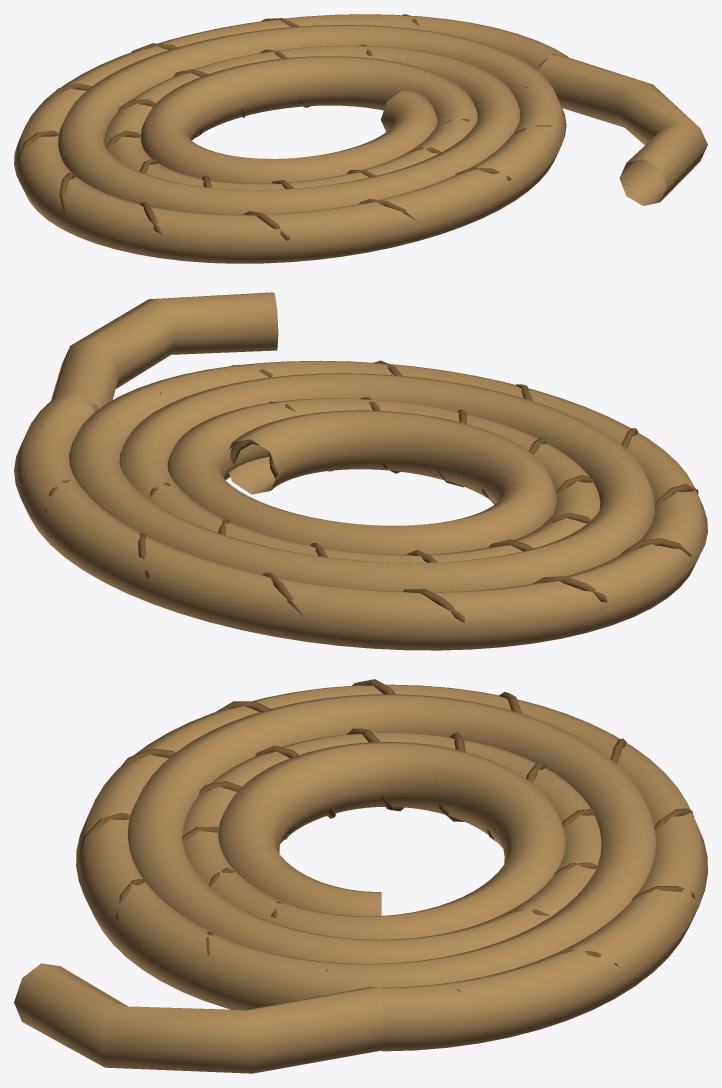
File: rope.glb
3 views of the same model, one above another, from view 1: azimuth 30°, elevation 25°; view 2: azimuth 150°, elevation 25°; view 3: azimuth 270°, elevation 25° (orthographic). The views are drawn at different scales.
Visible parts, largest first — view 1: rope; view 2: rope; view 3: rope.
Part boxes in pixels (x1,y1,x2,y2): rope: (14,14,707,263); rope: (14,292,707,650); rope: (14,679,707,1073).
Size of the model in its own units: 0.2264 by 0.022 by 0.184.
